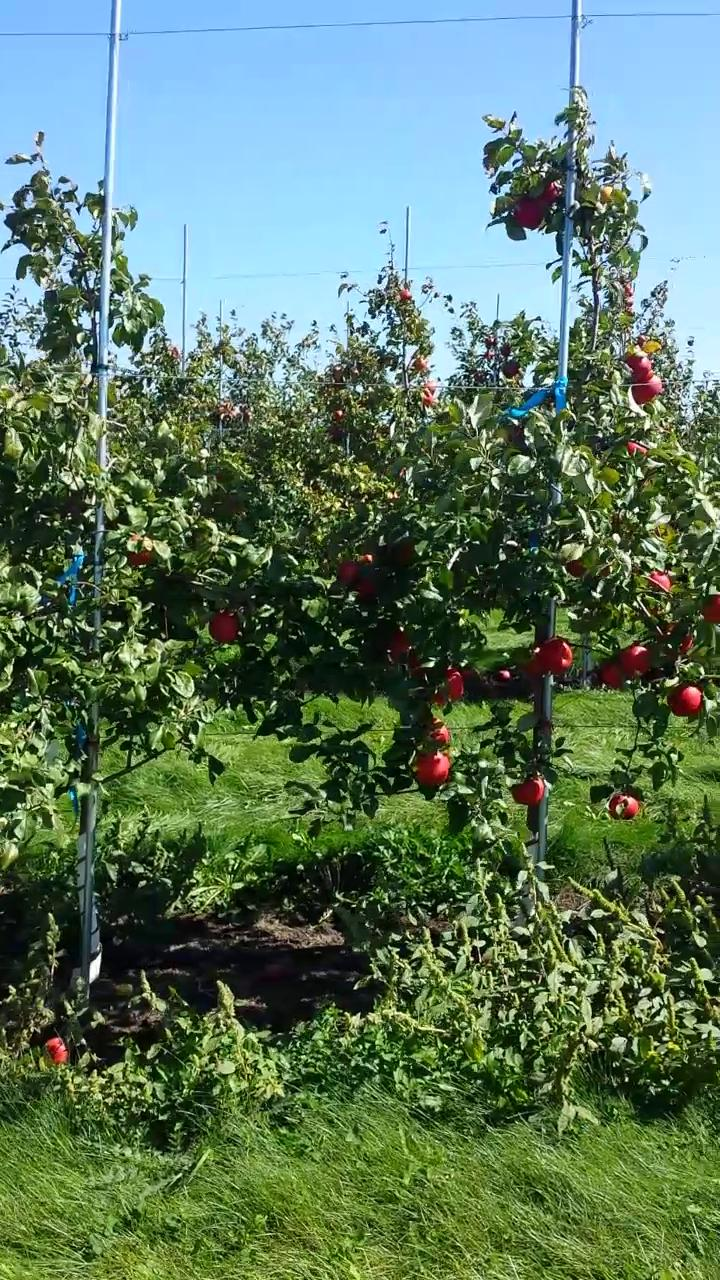Apple: (539, 639, 572, 674), (667, 685, 701, 718), (418, 752, 449, 787), (631, 374, 663, 406), (511, 778, 544, 806), (209, 614, 238, 645), (624, 355, 652, 387), (515, 200, 544, 230), (608, 793, 638, 822), (621, 647, 648, 677), (524, 645, 545, 681), (536, 181, 558, 207), (599, 663, 620, 687), (433, 719, 450, 748), (390, 635, 408, 662), (337, 562, 359, 584), (703, 595, 719, 624), (449, 670, 463, 702), (649, 573, 671, 592), (354, 579, 372, 600), (126, 551, 149, 566), (565, 561, 585, 578), (627, 443, 646, 455), (680, 637, 692, 655), (601, 187, 612, 204)
